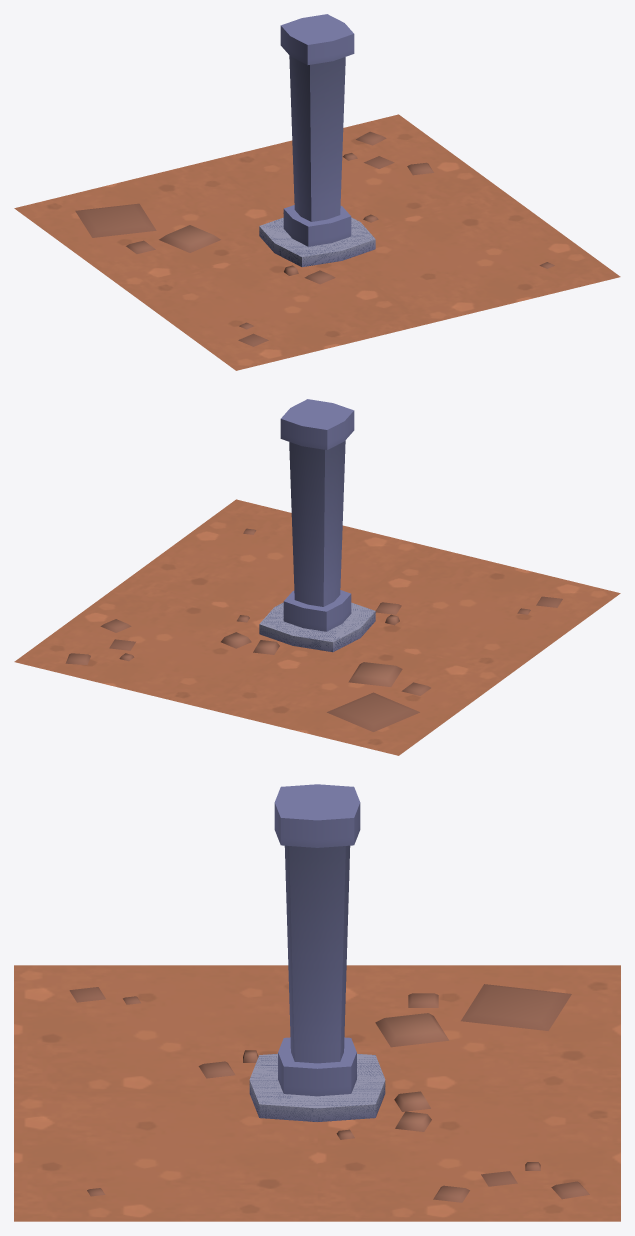
File: template-floor-big.glb
3 views of the same model, one above another, from view 1: azimuth 30°, elevation 25°; view 2: azimuth 150°, elevation 25°; view 3: azimuth 270°, elevation 25° (orthographic). The views are drawn at different scales.
Visible parts, largest first — view 1: template-floor-big; view 2: template-floor-big; view 3: template-floor-big.
Boxes of the visible parts, x1=… form: template-floor-big: x1=14, y1=14, x2=620, y2=370; template-floor-big: x1=14, y1=399, x2=620, y2=755; template-floor-big: x1=14, y1=784, x2=620, y2=1221.
Bounding box in the file's own units: 8 × 4.23 × 8.
1 material, 1 textured.
